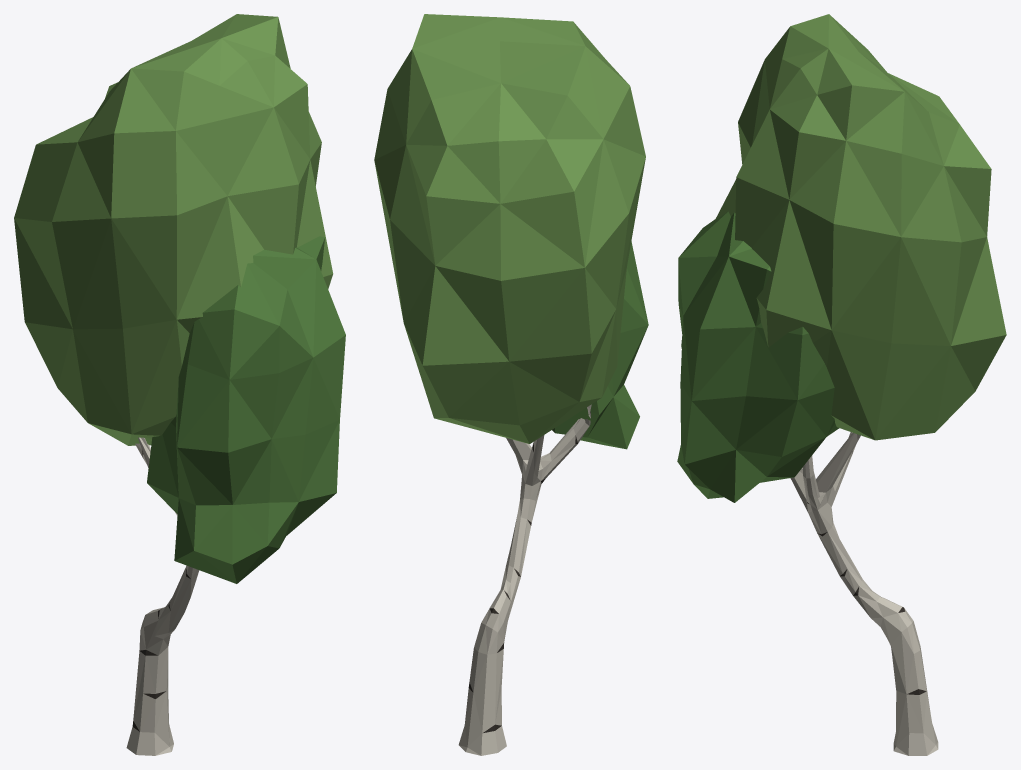
File: BirchTree_2.glb
The picture shows the model from 3 angles, left to right: view 1: azimuth 30°, elevation 25°; view 2: azimuth 150°, elevation 25°; view 3: azimuth 270°, elevation 25°; orthographic projection. The views are drawn at different scales.
Visible parts, largest first — view 1: BirchTree_2; view 2: BirchTree_2; view 3: BirchTree_2.
Part boxes in pixels (x1,y1,x2,y2): BirchTree_2: (14, 14, 345, 755); BirchTree_2: (374, 14, 648, 755); BirchTree_2: (677, 14, 1006, 755).
Bounding box in the file's own units: 1.47 × 4.03 × 1.69.
